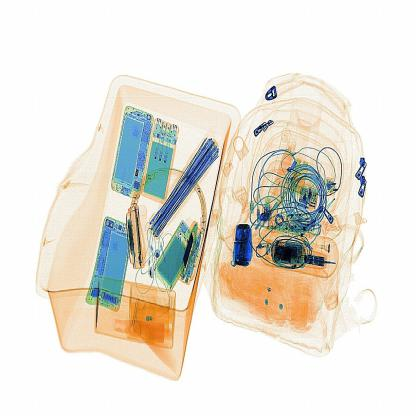scissors: (227, 219, 262, 269)
